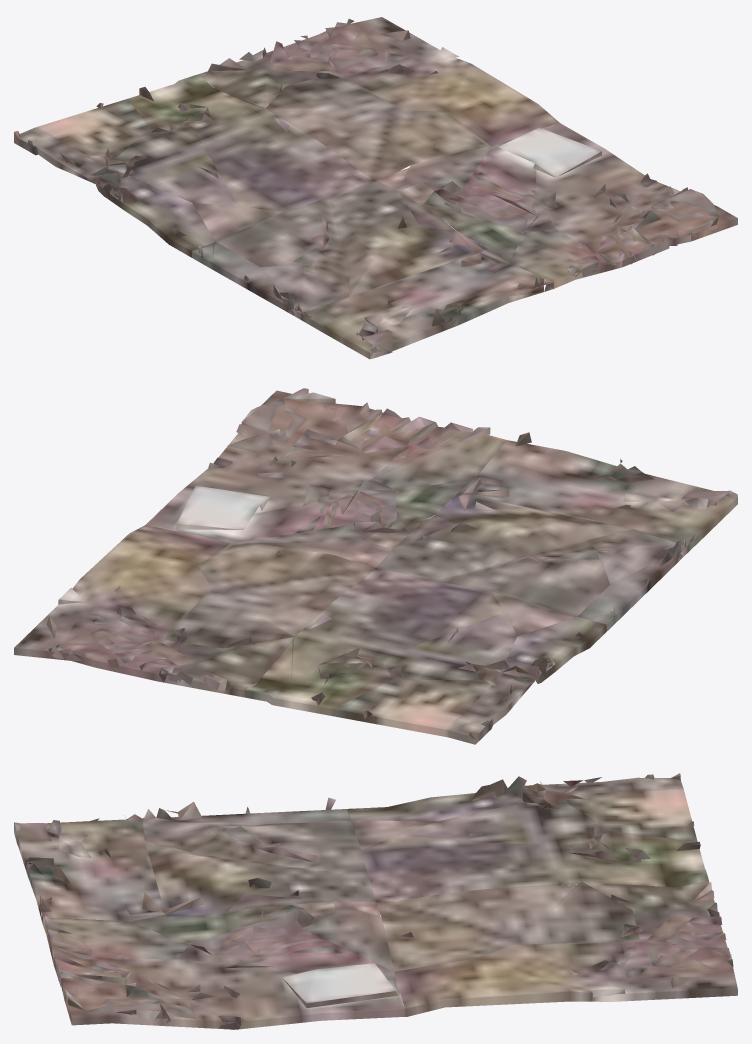
The picture shows the model from 3 angles, top to bottom: view 1: azimuth 30°, elevation 25°; view 2: azimuth 150°, elevation 25°; view 3: azimuth 270°, elevation 25°; orthographic projection. The views are drawn at different scales.
Visible parts, largest first — view 1: Mesh_0; view 2: Mesh_0; view 3: Mesh_0.
Part boxes in pixels (x1,y1,x2,y2): Mesh_0: (14,17,737,359); Mesh_0: (14,388,737,744); Mesh_0: (14,773,737,1029).
Size of the model in its own units: 1065 by 79.47 by 1318.
Materials: 1 (1 with a texture image).
